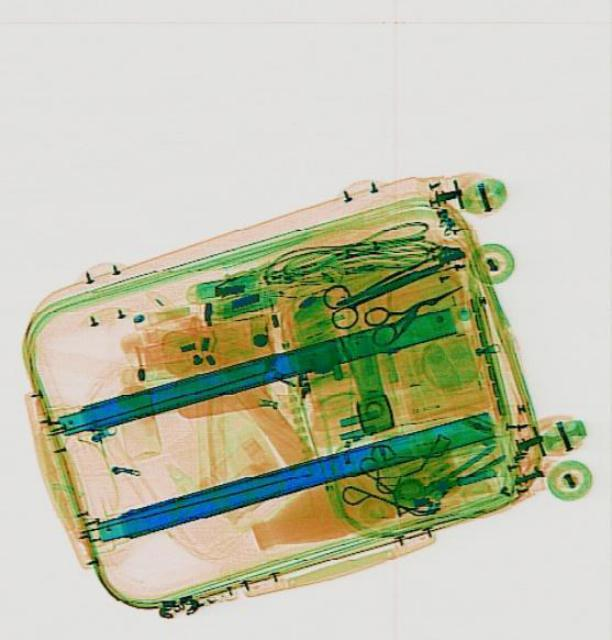Scissors: (316, 248, 444, 330), (357, 276, 470, 346)
